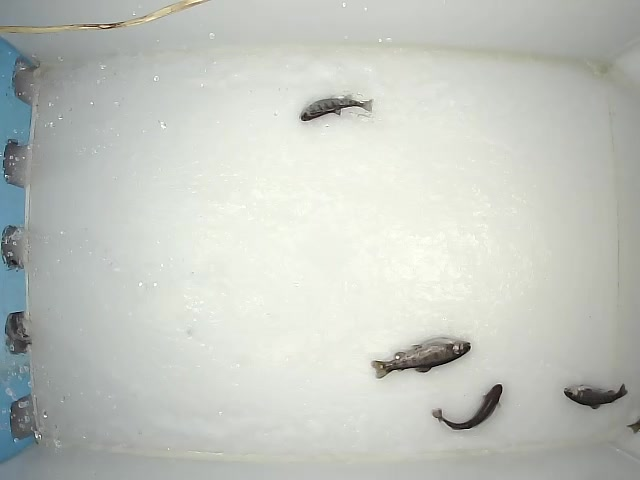fish: (370, 334, 473, 381), (430, 383, 504, 432), (298, 93, 375, 123), (562, 382, 629, 410)
